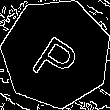P_NE: (27, 22, 86, 85)
